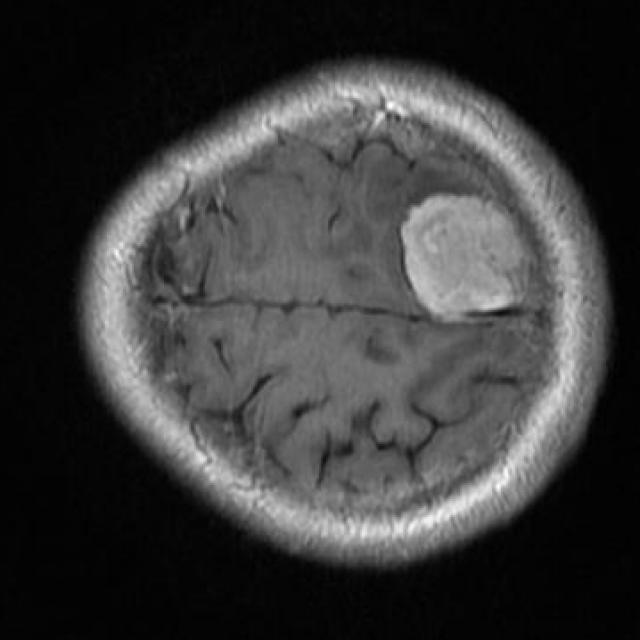meningioma: (401, 194, 524, 323)
